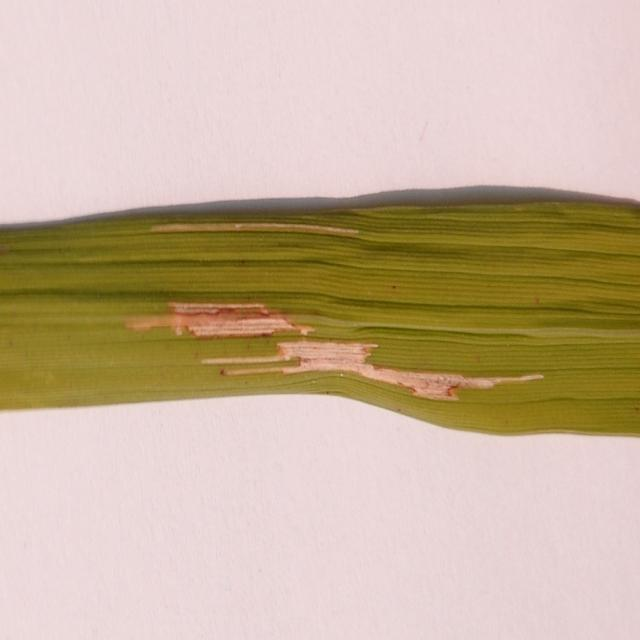Unhealthy: (202, 342, 543, 400), (125, 301, 316, 340), (151, 221, 360, 235)
